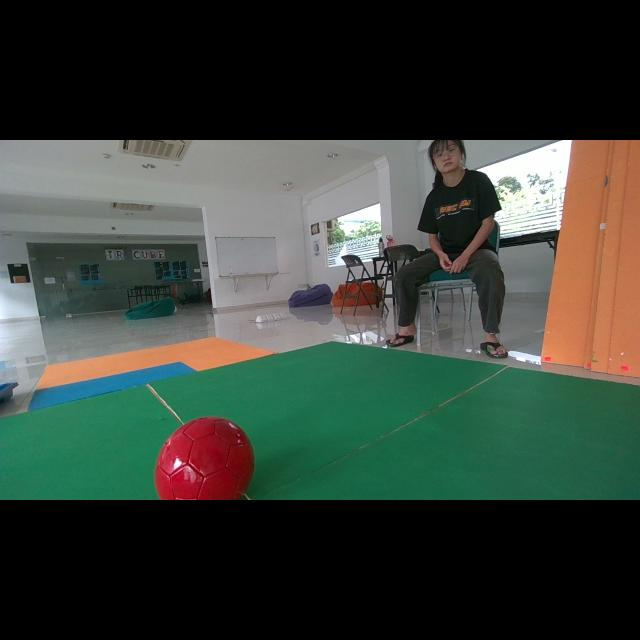R: (155, 418, 255, 499)
